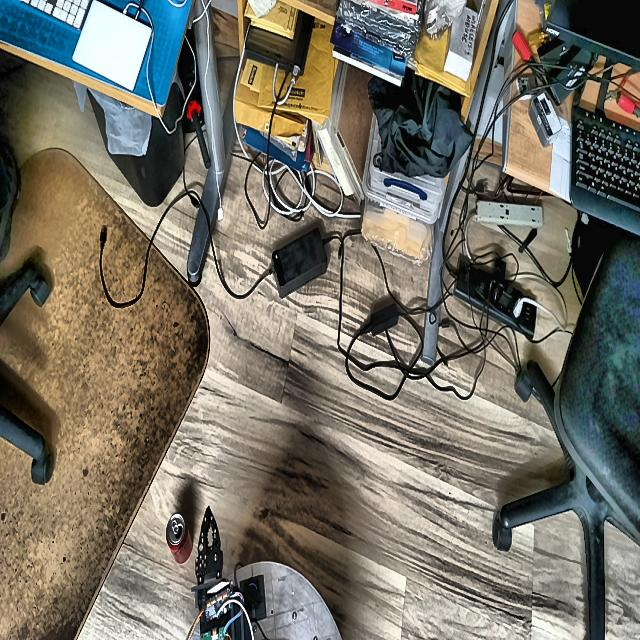Can: (166, 514, 192, 563)
